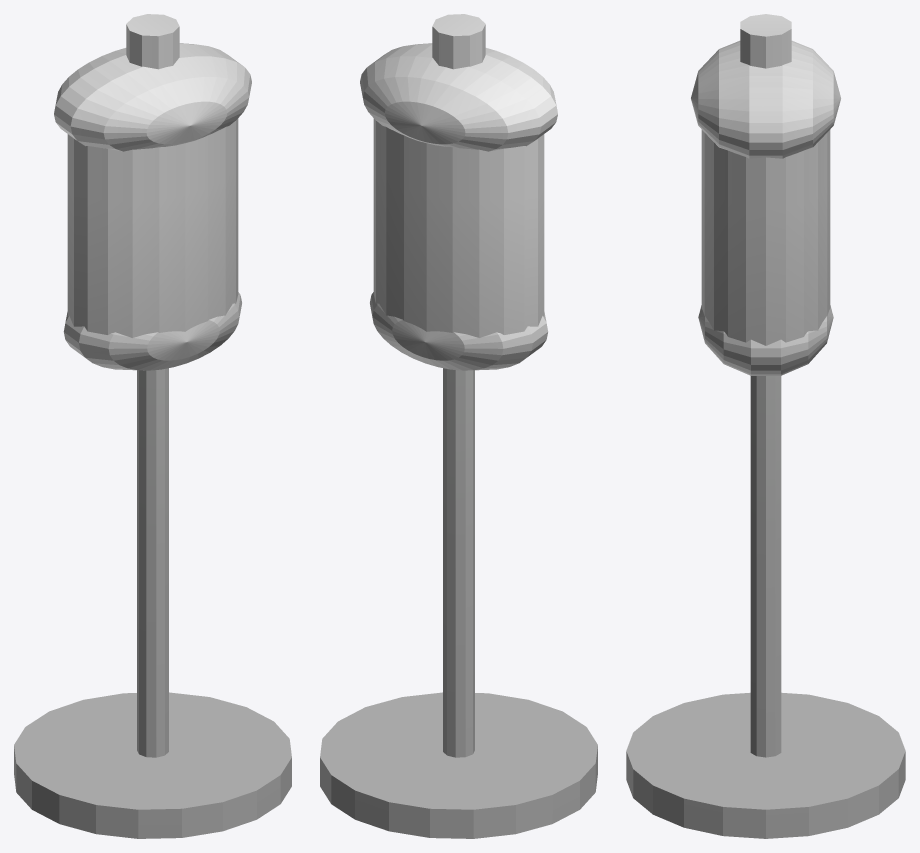
File: Building_Building_OutfitStand.obj
3 views of the same model, side by side, from view 1: azimuth 30°, elevation 25°; view 2: azimuth 150°, elevation 25°; view 3: azimuth 270°, elevation 25° (orthographic).
Visible parts, largest first — view 1: Body; view 2: Body; view 3: Body.
Part boxes in pixels (left/top/right/bottom): Body: left=14, top=14, right=291, bottom=838; Body: left=320, top=14, right=597, bottom=838; Body: left=626, top=14, right=905, bottom=838.
Bounding box in the file's own units: 0.52 × 1.55 × 0.52.
1 material, 1 textured.
